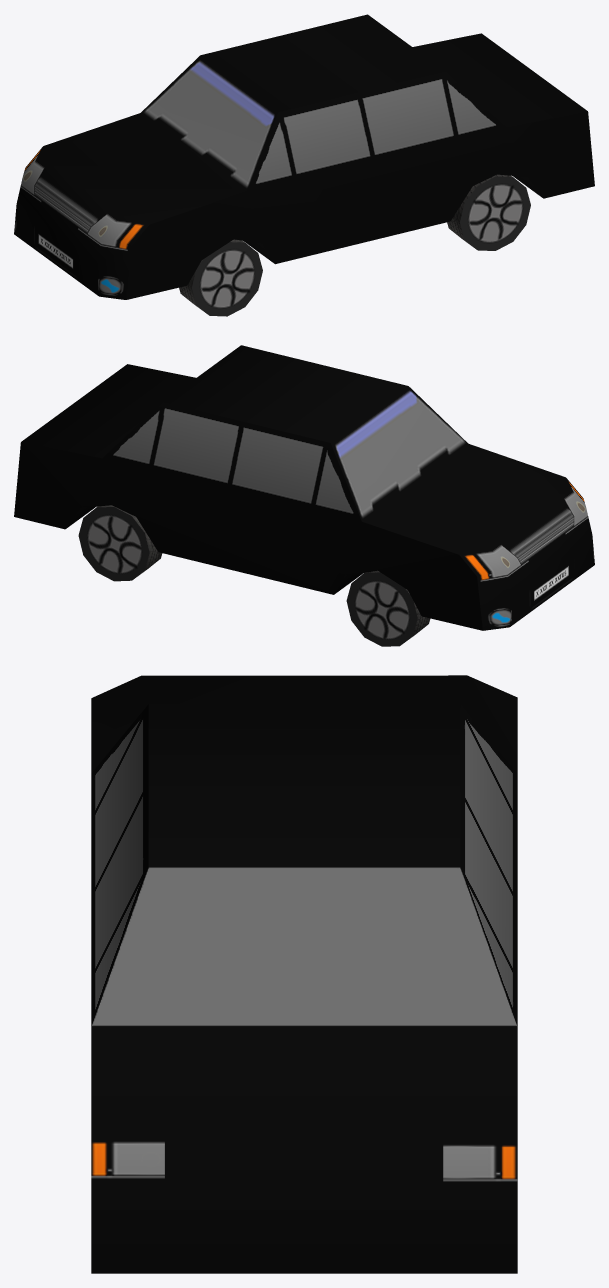
3 renders of one model, top to bottom at view 1: azimuth 30°, elevation 25°; view 2: azimuth 150°, elevation 25°; view 3: azimuth 270°, elevation 25°, orthographic. The views are drawn at different scales.
Visible parts, largest first — view 1: pickup; view 2: pickup; view 3: pickup.
Boxes of the visible parts, <box> form: pickup: <box>14,14,594,316</box>; pickup: <box>14,345,594,646</box>; pickup: <box>91,675,517,1273</box>.
Bounding box in the file's own units: 133 × 47.42 × 50.74.
